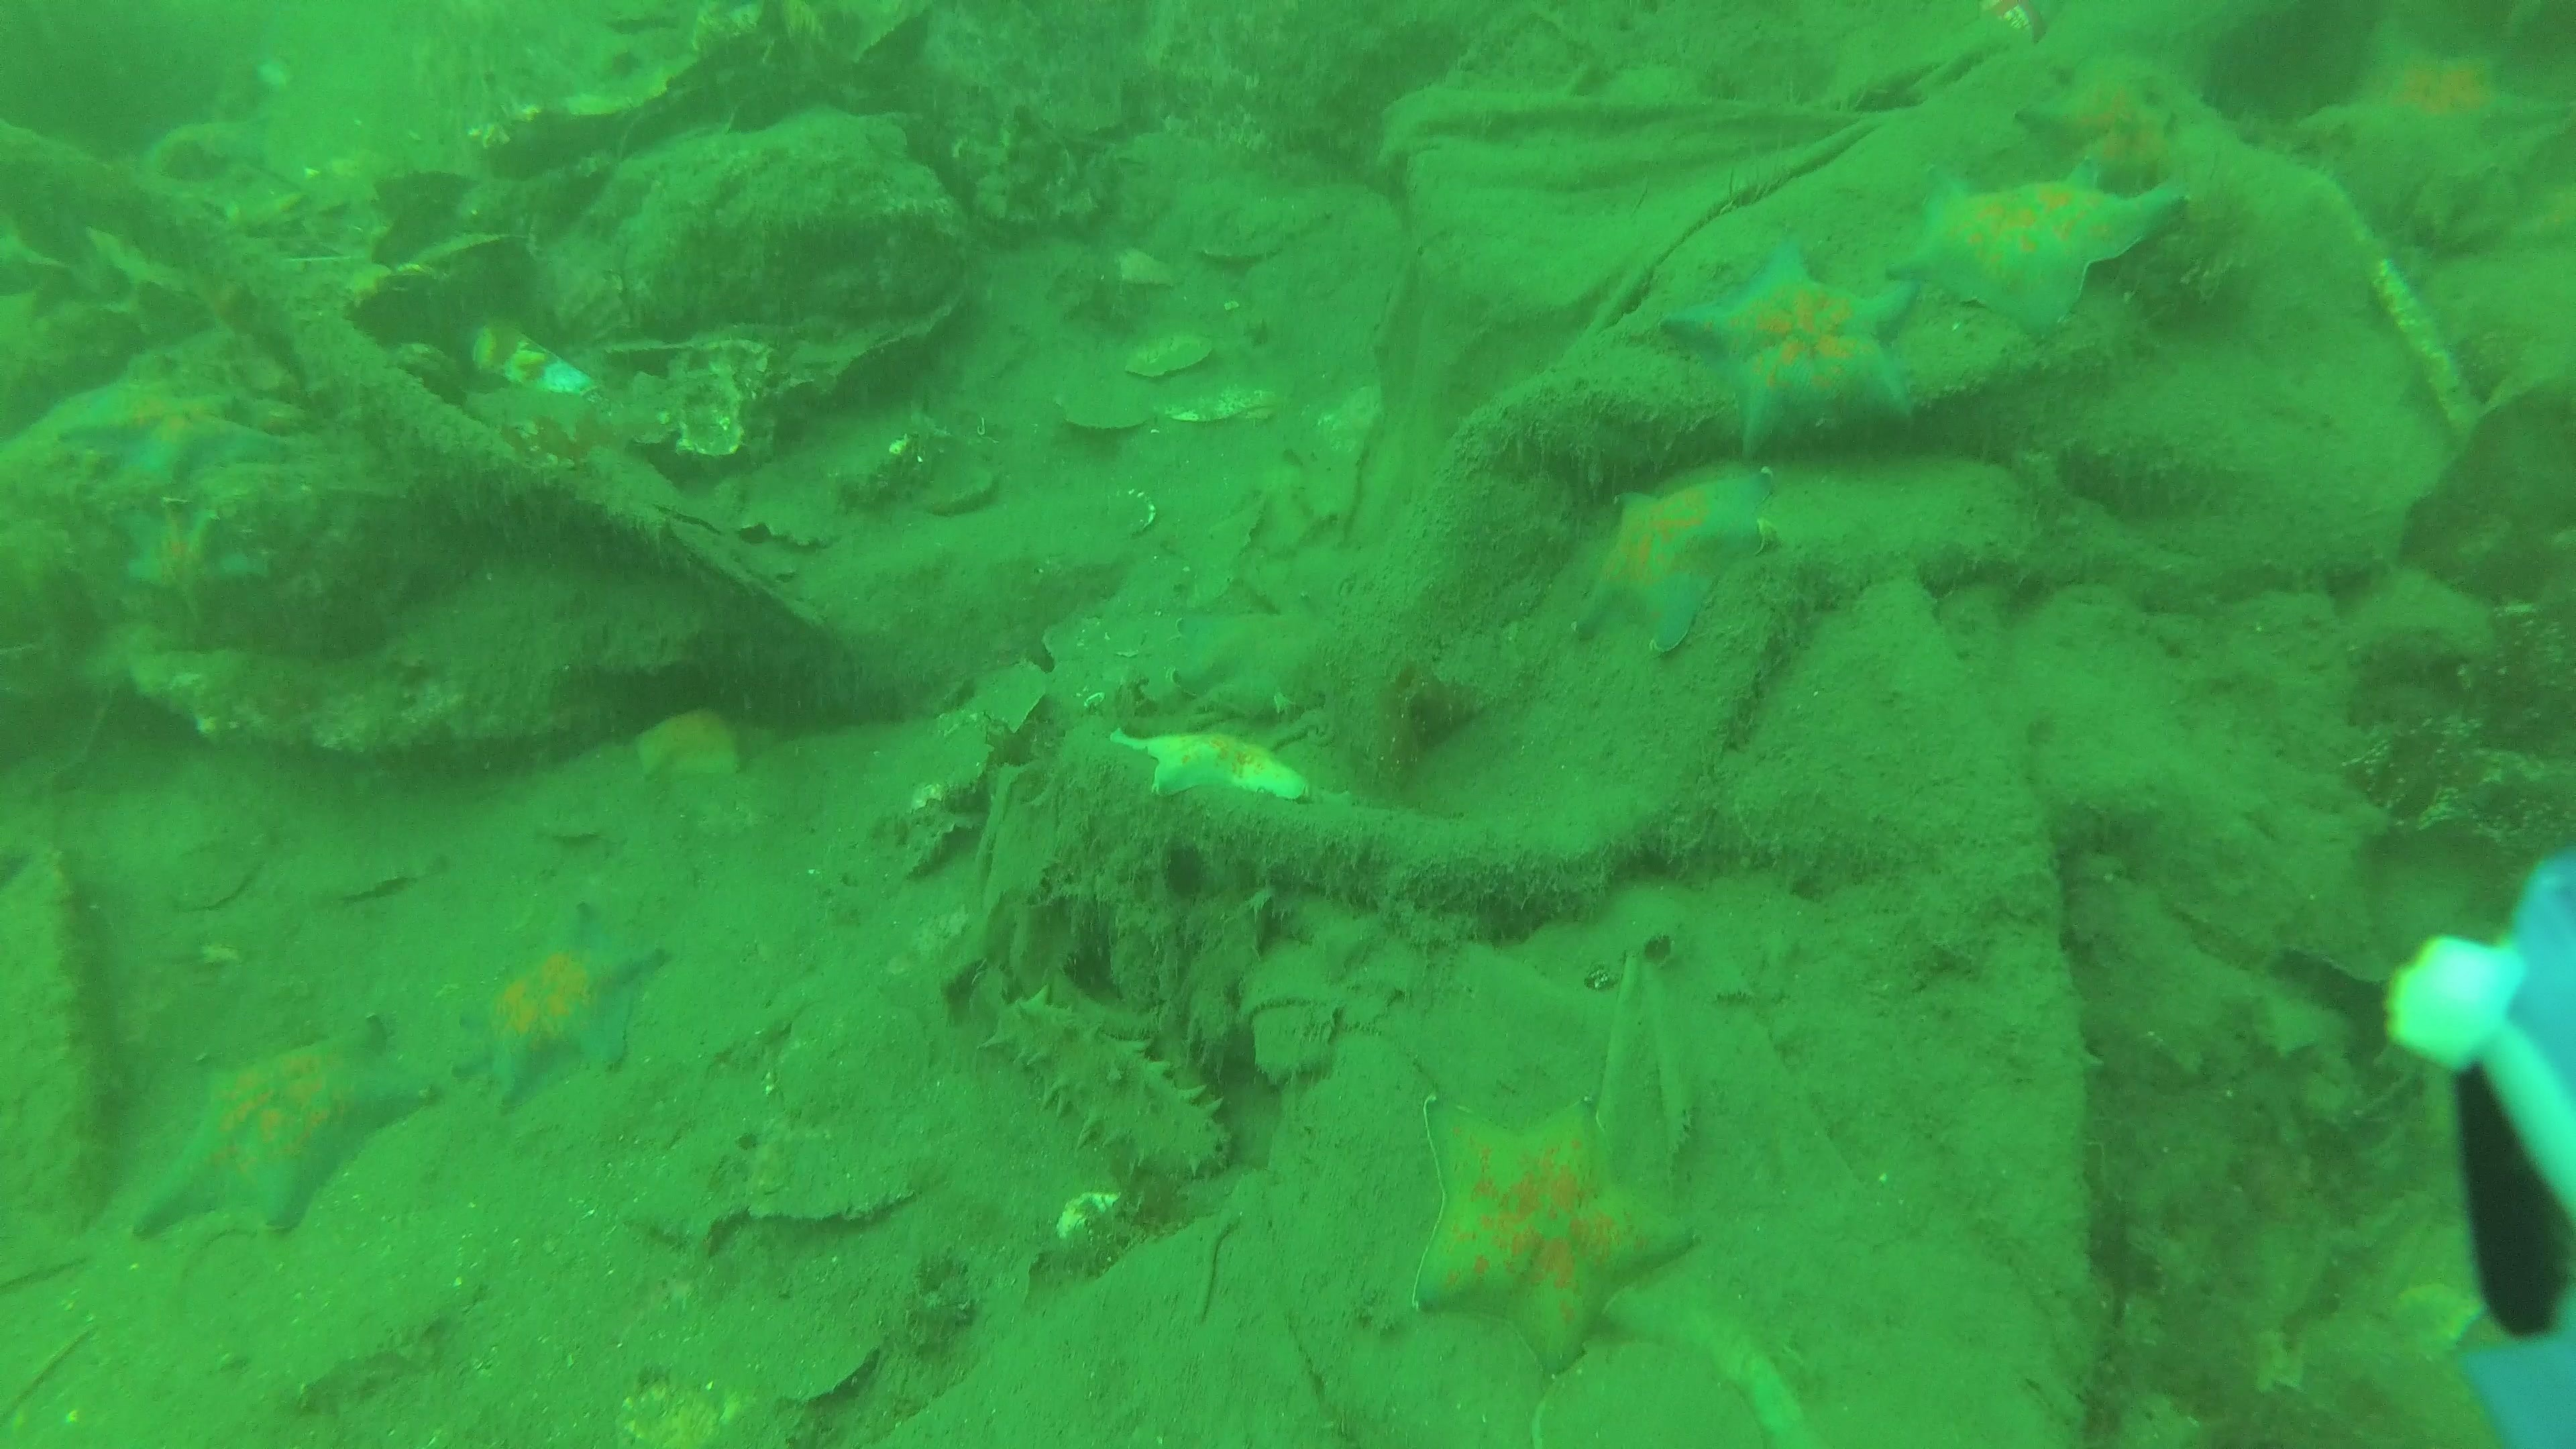holothurian: (993, 998, 1237, 1178)
scallop: (869, 669, 1039, 821), (1527, 1352, 1766, 1449), (297, 826, 455, 902), (1039, 614, 1164, 706), (1035, 476, 1162, 561), (1198, 196, 1327, 260), (157, 835, 267, 908), (1162, 364, 1265, 426), (1054, 375, 1155, 433), (909, 456, 1005, 515), (520, 800, 633, 842), (1132, 331, 1214, 370)
starfish: (1408, 1092, 1698, 1369), (142, 1019, 437, 1244), (1661, 235, 1916, 455), (1911, 149, 2181, 334), (2296, 28, 2551, 221), (1580, 474, 1782, 651), (455, 934, 644, 1109), (2019, 71, 2178, 191), (53, 396, 287, 478), (124, 504, 272, 625), (1106, 727, 1307, 801), (628, 706, 752, 777)
